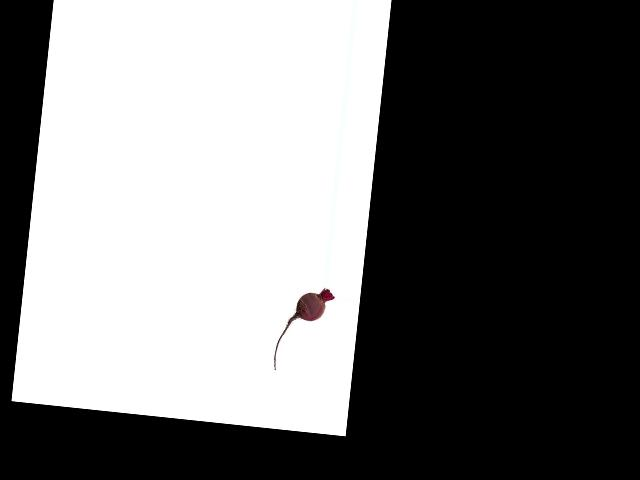beet: (272, 284, 335, 376)
